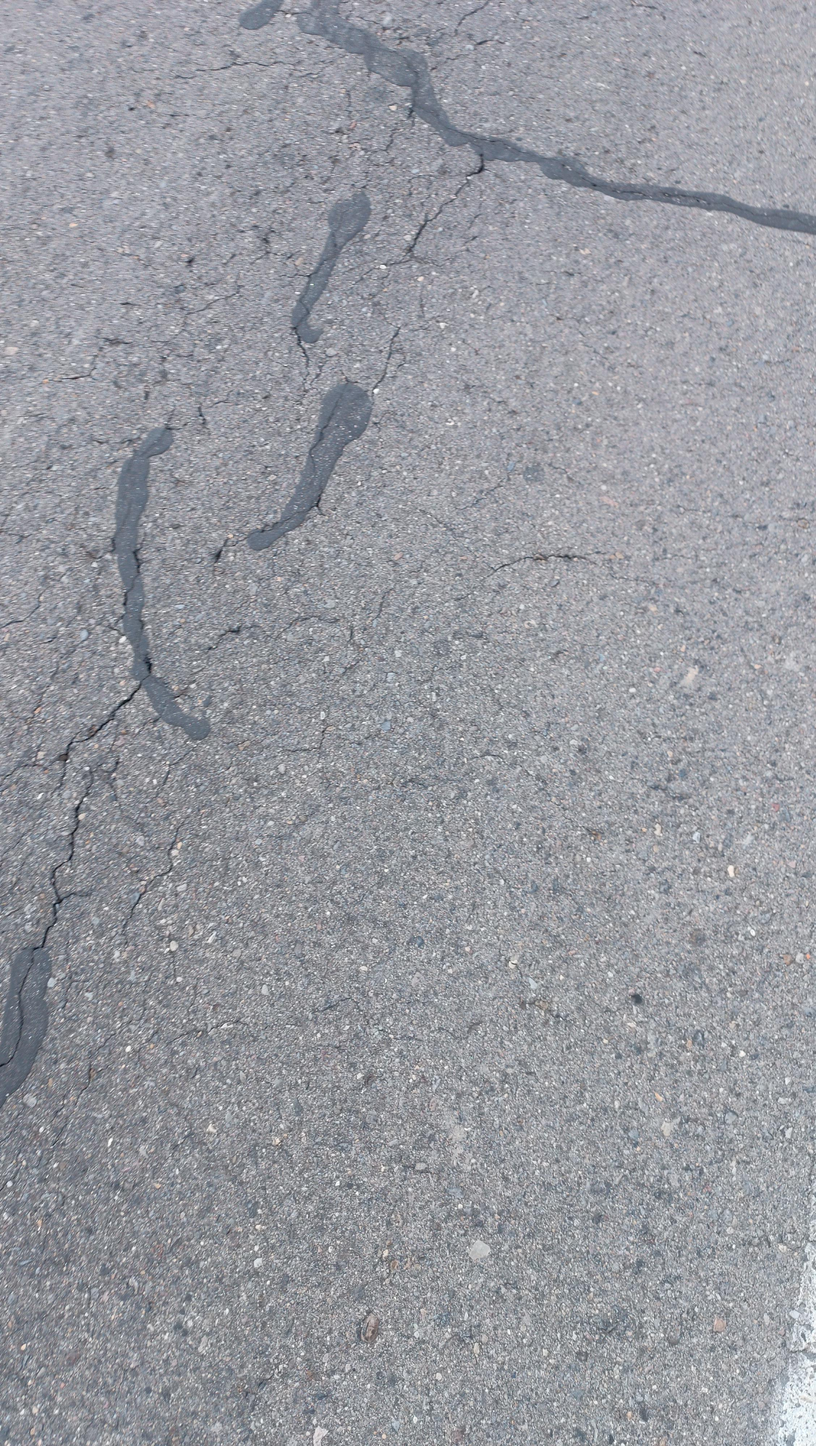GRIETA: (483, 138, 816, 226)
PIEL DE COCODRILO: (0, 0, 495, 1097)
